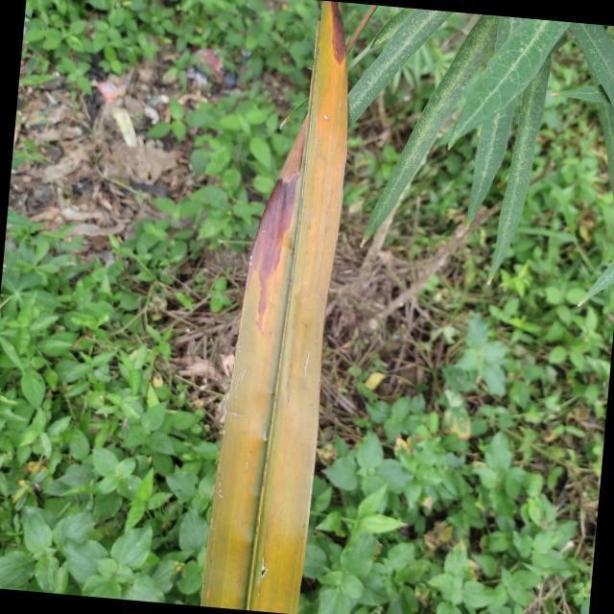Megnesium: (206, 6, 347, 614)
